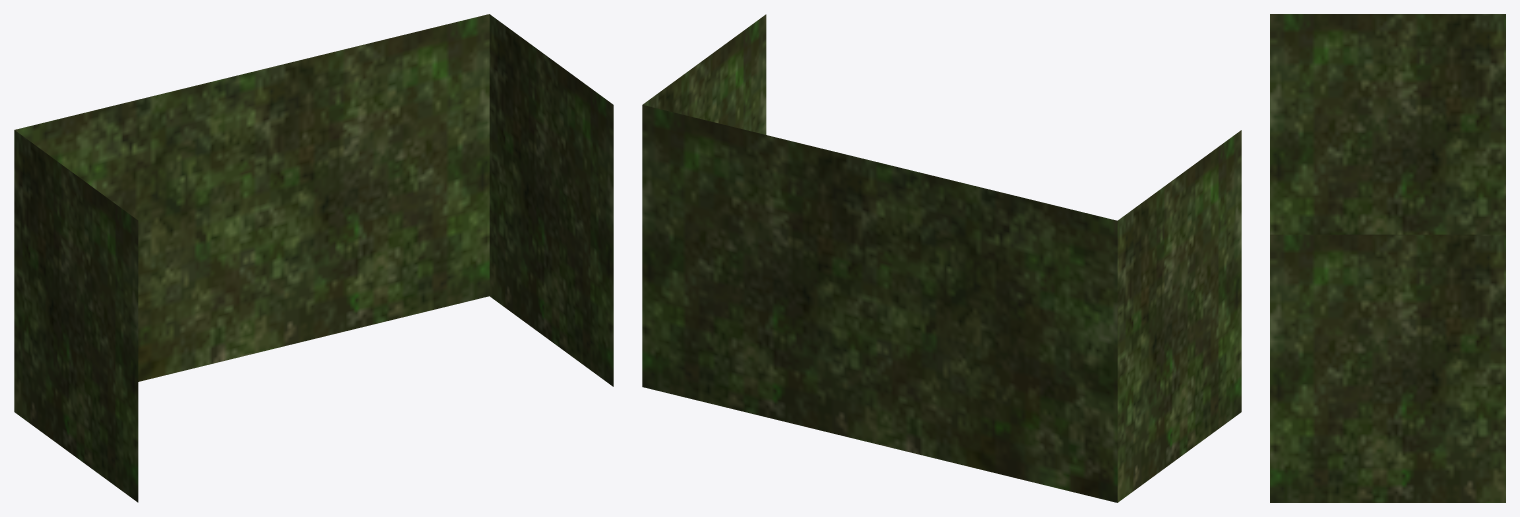
Rendered from OVERHILL_A_01_OBJECT120.fbx.
3 renders of one model, left to right at view 1: azimuth 30°, elevation 25°; view 2: azimuth 150°, elevation 25°; view 3: azimuth 270°, elevation 25°, orthographic. The views are drawn at different scales.
Visible parts, largest first — view 1: OVERHILL_A_01_OBJECT120; view 2: OVERHILL_A_01_OBJECT120; view 3: OVERHILL_A_01_OBJECT120.
Part boxes in pixels (x1,y1,x2,y2): OVERHILL_A_01_OBJECT120: (14,14,613,502); OVERHILL_A_01_OBJECT120: (642,14,1241,502); OVERHILL_A_01_OBJECT120: (1270,14,1505,502).
Bounding box in the file's own units: 31223 × 17726 × 14121.
1 material, 1 textured.
